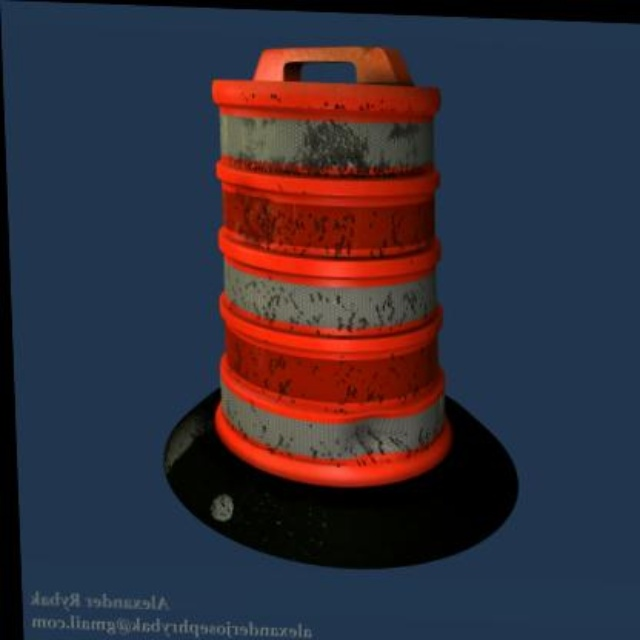obstacle: (176, 43, 462, 495)
